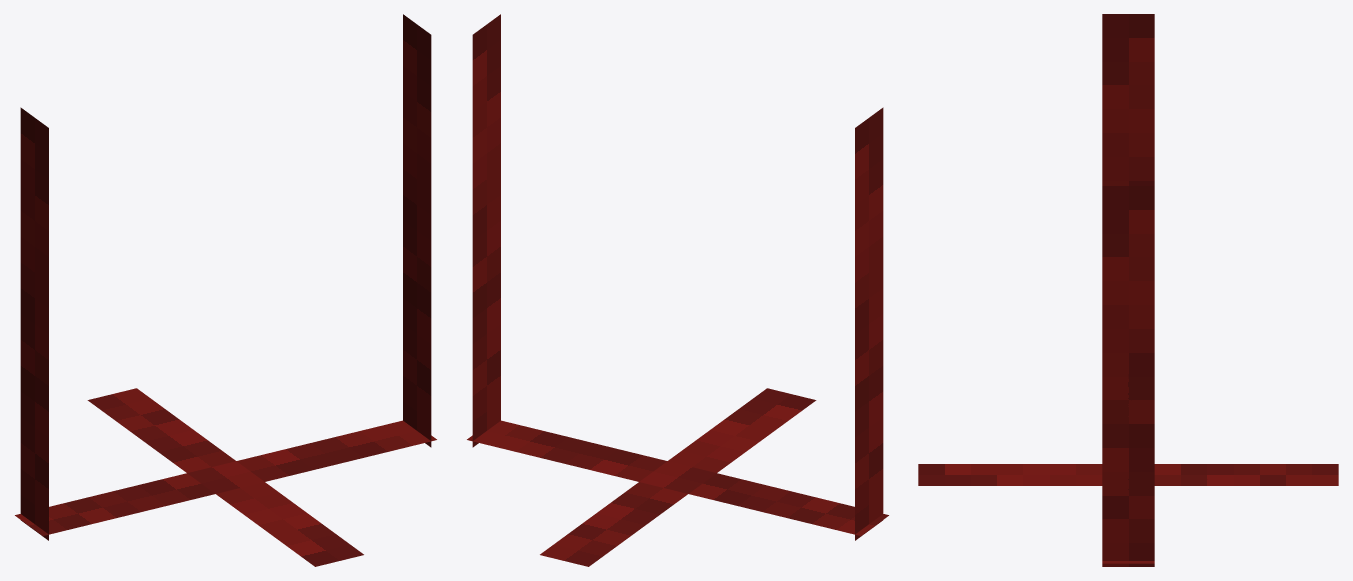
Rendered from dust_2211.gltf.
The picture shows the model from 3 angles, left to right: view 1: azimuth 30°, elevation 25°; view 2: azimuth 150°, elevation 25°; view 3: azimuth 270°, elevation 25°; orthographic projection. The views are drawn at different scales.
Parts seen in each view (by area): view 1: dust_2211; view 2: dust_2211; view 3: dust_2211.
Part boxes in pixels (x1,y1,x2,y2): dust_2211: [15, 14, 436, 566]; dust_2211: [467, 14, 888, 566]; dust_2211: [918, 14, 1338, 566].
Bounding box in the file's own units: 1 × 1 × 1.
1 material, 1 textured.
